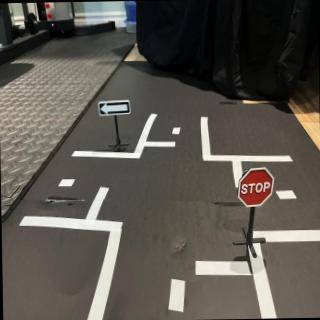sign_oneway_left: (99, 101, 132, 117)
sign_stop: (238, 168, 276, 209)
